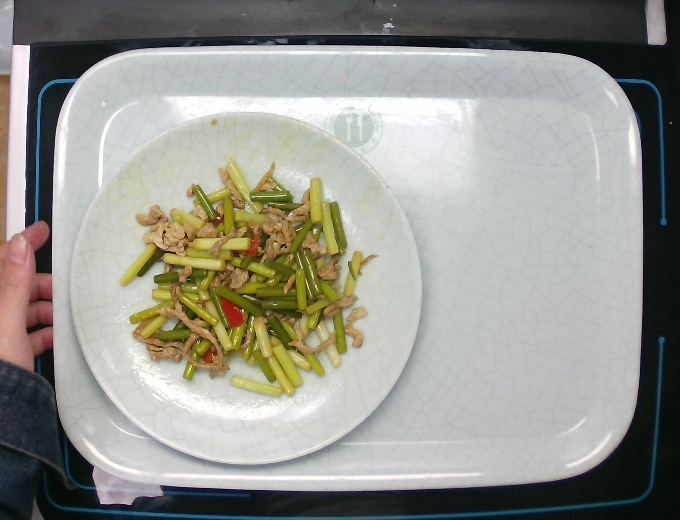JYsf-Da_Yuan_Pan: (63, 107, 425, 472)
